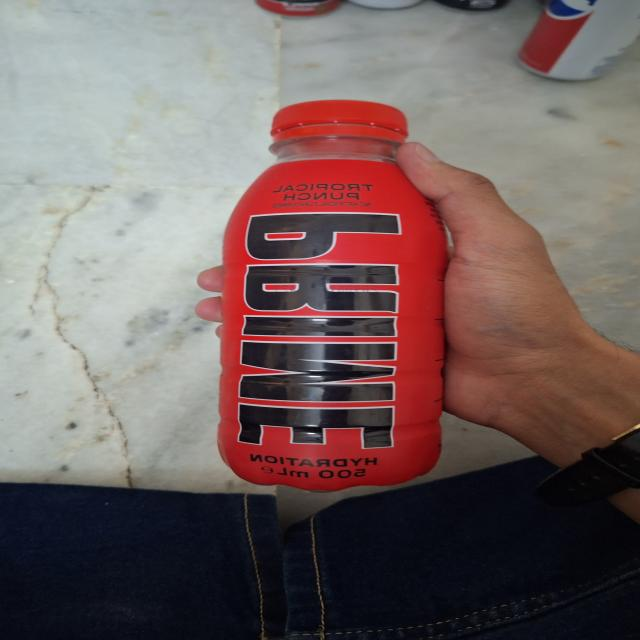Prime - Shitass: (205, 85, 463, 493)
